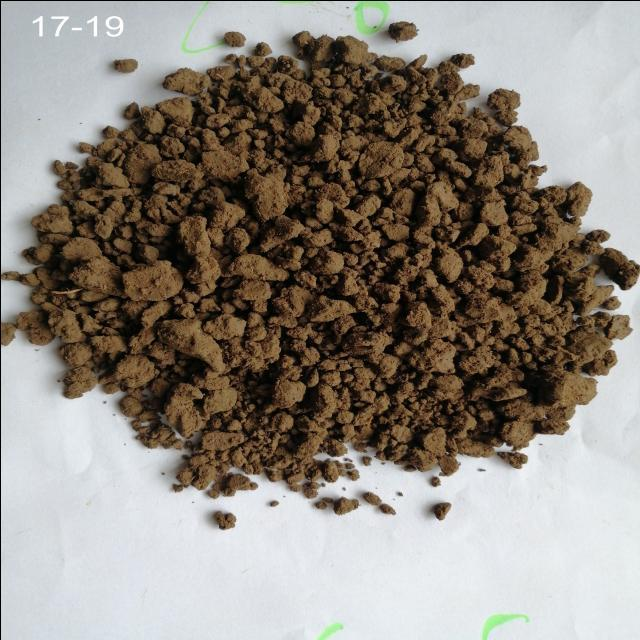soil: (172, 103, 542, 433)
